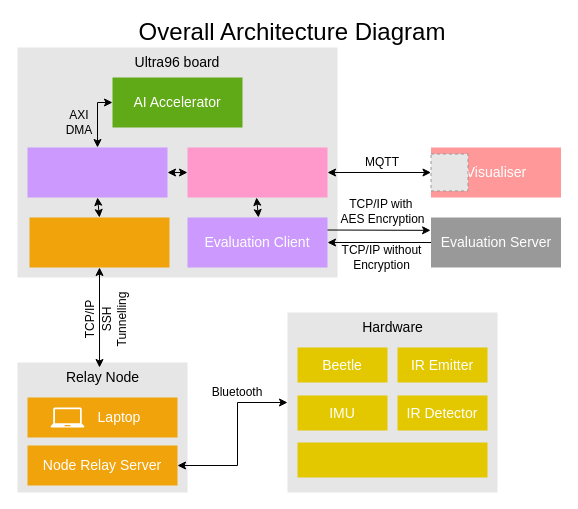
Image size: 578x509. Some labels were removed from this diagram. Grey dashed boxes stand in for pictures. The shapes that lost their labels are listed below. From the top down, each one's centre as x and y in pixels, then its label:
At (97,172): "Memory".
At (257,172): "Game Engine".
At (99,242): "Node Relay Client".
At (392,459): "Feedback Devices".
